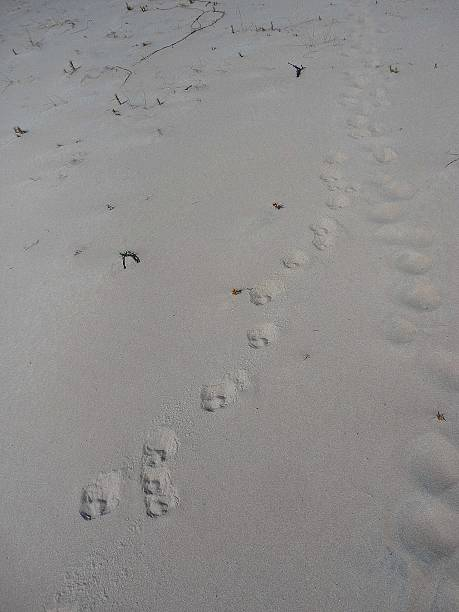animal_foot_print: (395, 493, 458, 564), (407, 432, 458, 495), (200, 369, 250, 412), (80, 470, 121, 519), (142, 465, 178, 516), (422, 349, 458, 390), (375, 223, 432, 247), (143, 427, 178, 465), (401, 279, 441, 310), (200, 379, 238, 411), (429, 577, 458, 611), (394, 250, 432, 274), (249, 278, 284, 304), (384, 315, 416, 343), (310, 216, 337, 249), (381, 176, 416, 199), (247, 322, 277, 348), (369, 202, 401, 222), (320, 165, 344, 189), (281, 249, 309, 269), (349, 122, 383, 138), (326, 190, 351, 209), (373, 146, 397, 162), (323, 149, 347, 164), (347, 114, 370, 129), (348, 74, 367, 89), (45, 604, 78, 611)
